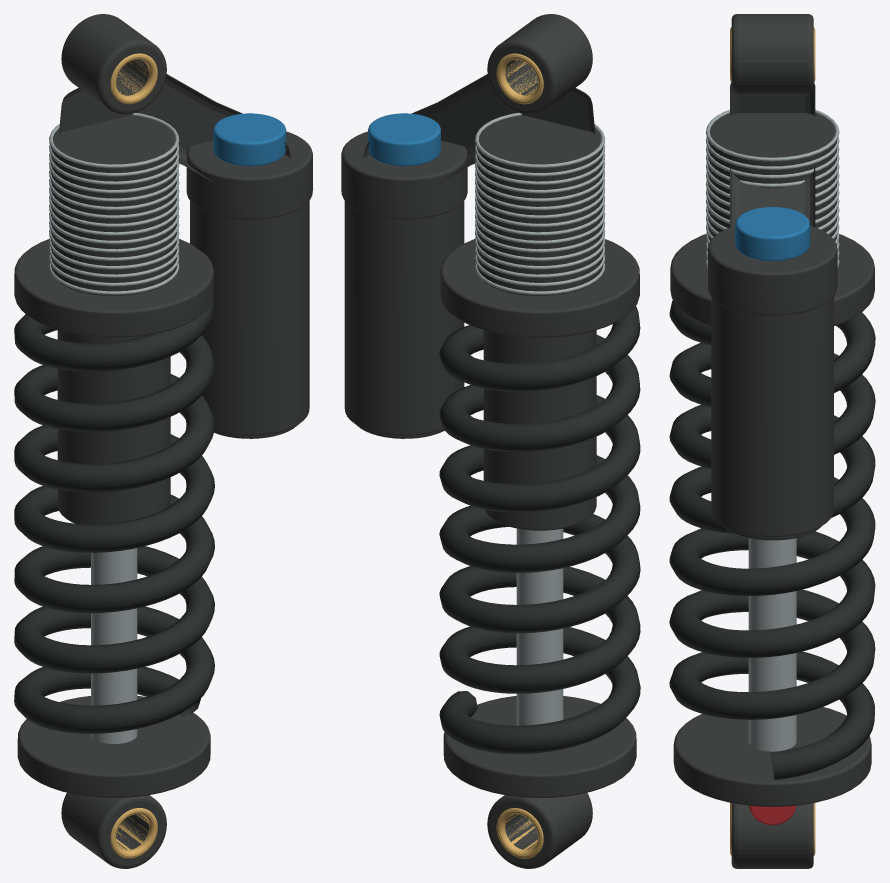
Rendered from bomber-cr-250.glb.
3 renders of one model, left to right at view 1: azimuth 30°, elevation 25°; view 2: azimuth 150°, elevation 25°; view 3: azimuth 270°, elevation 25°, orthographic. The views are drawn at different scales.
Parts seen in each view (by area): view 1: bomber-cr-250__link, bomber-cr-250__coil, bomber-cr-250__bolts, bomber-cr-250__adjuster, bomber-cr-250__stanchions; view 2: bomber-cr-250__link, bomber-cr-250__coil, bomber-cr-250__bolts, bomber-cr-250__adjuster, bomber-cr-250__stanchions; view 3: bomber-cr-250__link, bomber-cr-250__coil, bomber-cr-250__bolts, bomber-cr-250__adjuster, bomber-cr-250__rebound, bomber-cr-250__stanchions.
Part boxes in pixels (left/top/right/bottom): bomber-cr-250__link: left=14, top=14, right=312, bottom=868; bomber-cr-250__coil: left=14, top=298, right=214, bottom=733; bomber-cr-250__bolts: left=49, top=112, right=179, bottom=743; bomber-cr-250__adjuster: left=213, top=113, right=286, bottom=166; bomber-cr-250__stanchions: left=110, top=53, right=157, bottom=858; bomber-cr-250__link: left=341, top=14, right=639, bottom=868; bomber-cr-250__coil: left=439, top=306, right=640, bottom=753; bomber-cr-250__bolts: left=475, top=112, right=605, bottom=725; bomber-cr-250__adjuster: left=368, top=113, right=440, bottom=166; bomber-cr-250__stanchions: left=496, top=53, right=543, bottom=858; bomber-cr-250__link: left=670, top=14, right=874, bottom=868; bomber-cr-250__coil: left=669, top=300, right=875, bottom=780; bomber-cr-250__bolts: left=706, top=109, right=839, bottom=751; bomber-cr-250__adjuster: left=735, top=207, right=810, bottom=260; bomber-cr-250__rebound: left=749, top=805, right=796, bottom=825; bomber-cr-250__stanchions: left=730, top=27, right=815, bottom=855.
Size of the model in its own units: 0.0961 by 0.274 by 0.0605.
